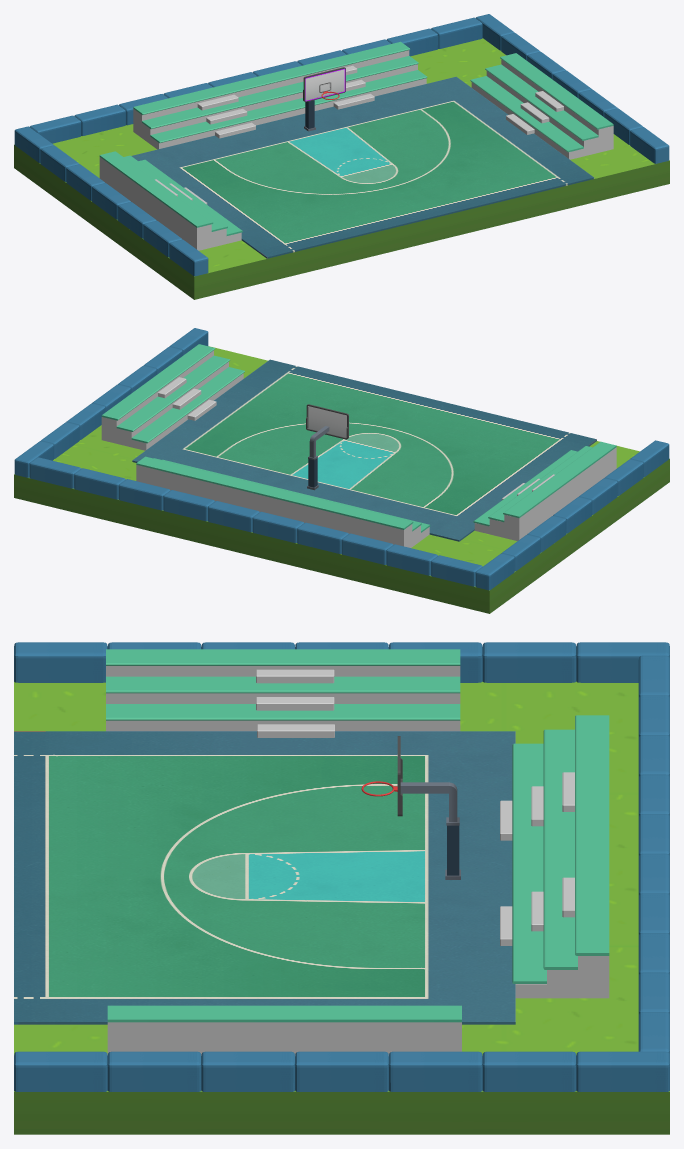
Rendered from Court.glb.
The picture shows the model from 3 angles, top to bottom: view 1: azimuth 30°, elevation 25°; view 2: azimuth 150°, elevation 25°; view 3: azimuth 270°, elevation 25°; orthographic projection. The views are drawn at different scales.
Parts seen in each view (by area): view 1: Cube.023, Floor, Stands.001, Step.005, Stands.004, Step.006, Step.004, Stands.002, Step.015, Step.009, Step.008, Step.007 (+22 smaller); view 2: Cube.023, Floor, Stands.001, Step.005, Stands.004, Stands.002, Step.009, Step.015, Step.008, Step.007, Backboard, Cube.010 (+26 smaller); view 3: Cube.023, Floor, Stands.002, Stands.004, Step.005, Step.006, Step.004, Step.009, Step.015, Step.014, Step.013, Cube.002 (+28 smaller).
Part boxes in pixels (x1=…): Cube.023: x1=131, y1=76, x2=594, y2=258; Floor: x1=14, y1=38, x2=669, y2=299; Stands.001: x1=133, y1=50, x2=426, y2=149; Step.005: x1=133, y1=41, x2=410, y2=114; Stands.004: x1=99, y1=157, x2=241, y2=250; Step.006: x1=150, y1=70, x2=427, y2=143; Step.004: x1=142, y1=56, x2=418, y2=128; Stands.002: x1=471, y1=59, x2=613, y2=159; Step.015: x1=99, y1=151, x2=213, y2=227; Step.009: x1=500, y1=53, x2=613, y2=129; Step.008: x1=485, y1=64, x2=598, y2=140; Step.007: x1=470, y1=76, x2=583, y2=152; Cube.023: x1=132, y1=359, x2=596, y2=541; Floor: x1=14, y1=346, x2=669, y2=613; Stands.001: x1=136, y1=465, x2=429, y2=547; Step.005: x1=136, y1=456, x2=413, y2=529; Stands.004: x1=474, y1=447, x2=616, y2=540; Stands.002: x1=101, y1=350, x2=243, y2=450; Step.009: x1=101, y1=344, x2=215, y2=420; Step.015: x1=503, y1=441, x2=616, y2=518; Step.008: x1=116, y1=355, x2=230, y2=431; Step.007: x1=131, y1=367, x2=244, y2=443; Backboard: x1=306, y1=404, x2=348, y2=439; Cube.010: x1=341, y1=533, x2=393, y2=564; Cube.023: x1=14, y1=731, x2=515, y2=1024; Floor: x1=14, y1=681, x2=669, y2=1134; Stands.002: x1=107, y1=1022, x2=461, y2=1055; Stands.004: x1=106, y1=666, x2=460, y2=731; Step.005: x1=575, y1=715, x2=609, y2=955; Step.006: x1=512, y1=743, x2=546, y2=983; Step.004: x1=543, y1=729, x2=577, y2=969; Step.009: x1=107, y1=1005, x2=461, y2=1022; Step.015: x1=106, y1=649, x2=460, y2=665; Step.014: x1=106, y1=676, x2=460, y2=693; Step.013: x1=106, y1=704, x2=460, y2=720; Cube.002: x1=482, y1=642, x2=576, y2=682.
Size of the model in its own units: 32 by 5.95 by 21.
Materials: 2 (1 with a texture image).
